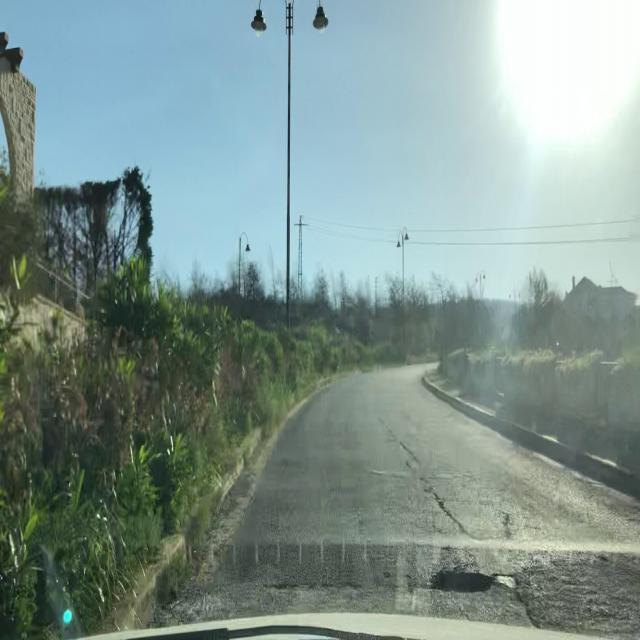Buraco: (424, 562, 499, 595)
